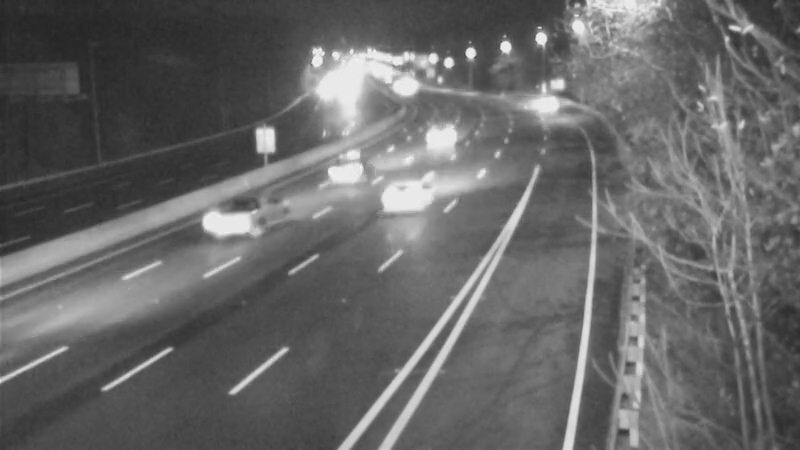vehicle: (304, 129, 384, 209), (362, 160, 442, 240), (189, 174, 269, 254), (516, 78, 566, 128), (421, 109, 471, 159)
